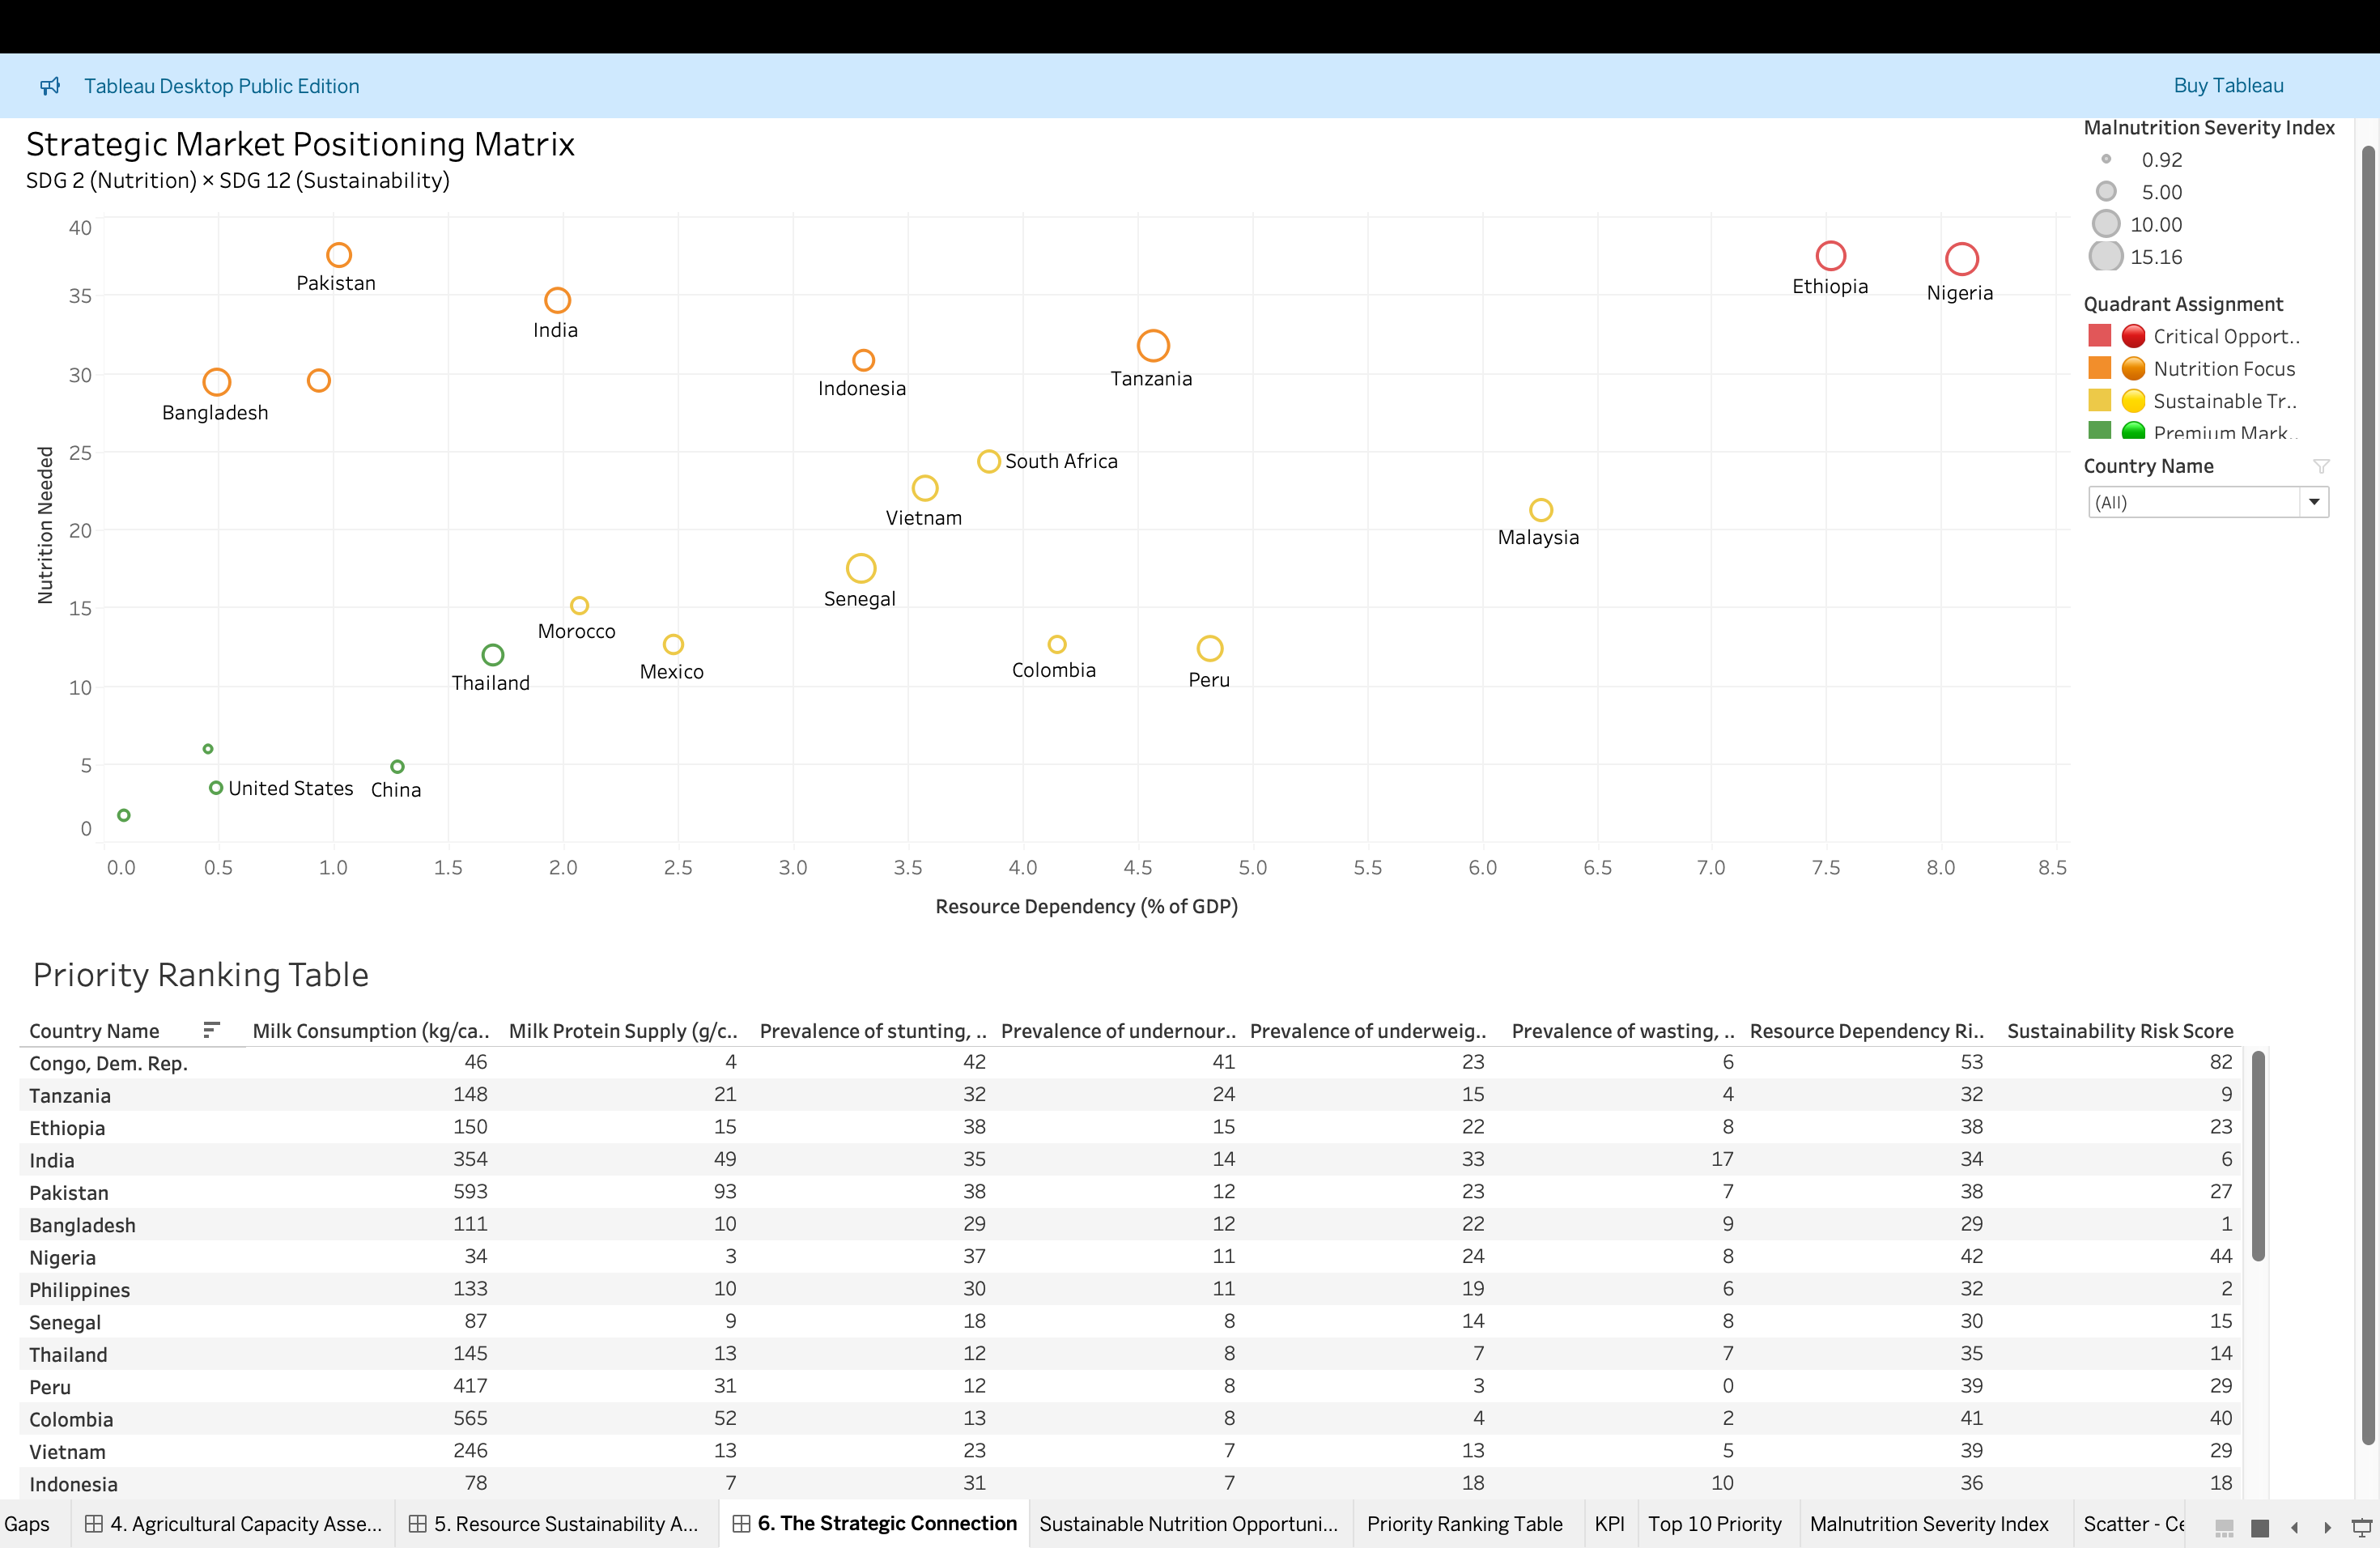

Layout of this report page (visuals, bound fields, positions):
{"tool":"tableau","page":{"name":"6. The Strategic Connection","canvas":[1000,1000],"units":"permille","ordinal":5},"visuals":[{"type":"worksheet","title":"2x2 Strategic Matrix","mark":"Automatic","rows":["Prevalence of stunting, height for age (% of children under "],"cols":["Total natural resources rents (% of GDP)"],"box":[5,6.8,877.8,572.8]},{"type":"legend","title":"2x2 Strategic Matrix","param":"[federated.1823flp0yye8aa1earymd1le6a7y].[avg:Calculation_469148426863939584:qk]","box":[882.8,6.8,112.2,121.6]},{"type":"legend","title":"2x2 Strategic Matrix","param":"[federated.09alctc0k9nlqe12vpx280e0w571].[usr:Calculation_3353633619847335943:nk","box":[882.8,128.4,112.2,111.4]},{"type":"filter","title":" Priority Ranking Table","param":"[federated.1823flp0yye8aa1earymd1le6a7y].[none:Country Name:nk]","box":[882.8,239.8,112.2,339.8]},{"type":"worksheet","title":" Priority Ranking Table","mark":"Automatic","rows":["Country Name"],"box":[5,579.6,990,413.6]}]}

Visuals, with their boxes on the dashboard's canvas, which has no fixed pixel size, in thousandths of its width and height (x1, y1, x2, y2). These are canvas units, not pixel positions in the 2380x1548 screenshot, which may show the page scaled, cropped or inside an application window:
"2x2 Strategic Matrix" worksheet: (x1=5, y1=7, x2=883, y2=580)
"2x2 Strategic Matrix" legend: (x1=883, y1=7, x2=995, y2=128)
"2x2 Strategic Matrix" legend: (x1=883, y1=128, x2=995, y2=240)
" Priority Ranking Table" filter: (x1=883, y1=240, x2=995, y2=580)
" Priority Ranking Table" worksheet: (x1=5, y1=580, x2=995, y2=993)
